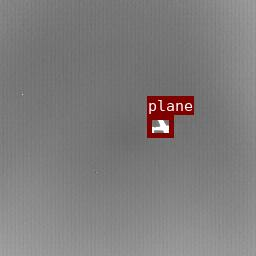plane: (147, 115, 173, 137)
